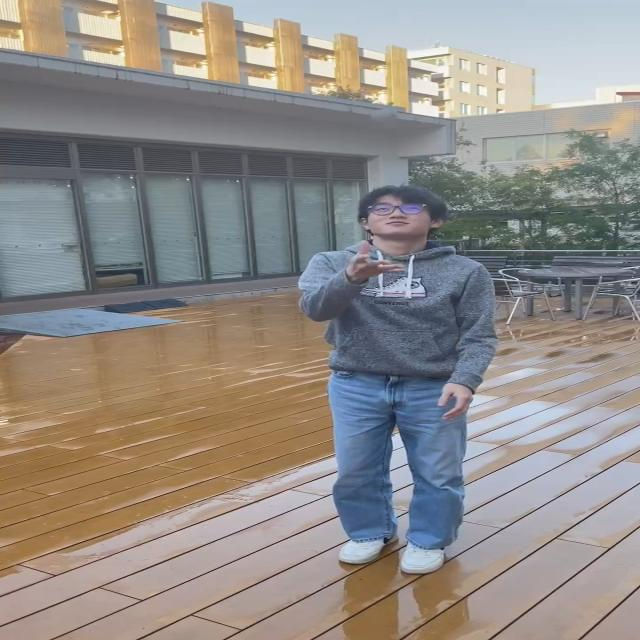paper: (373, 108, 400, 122)
